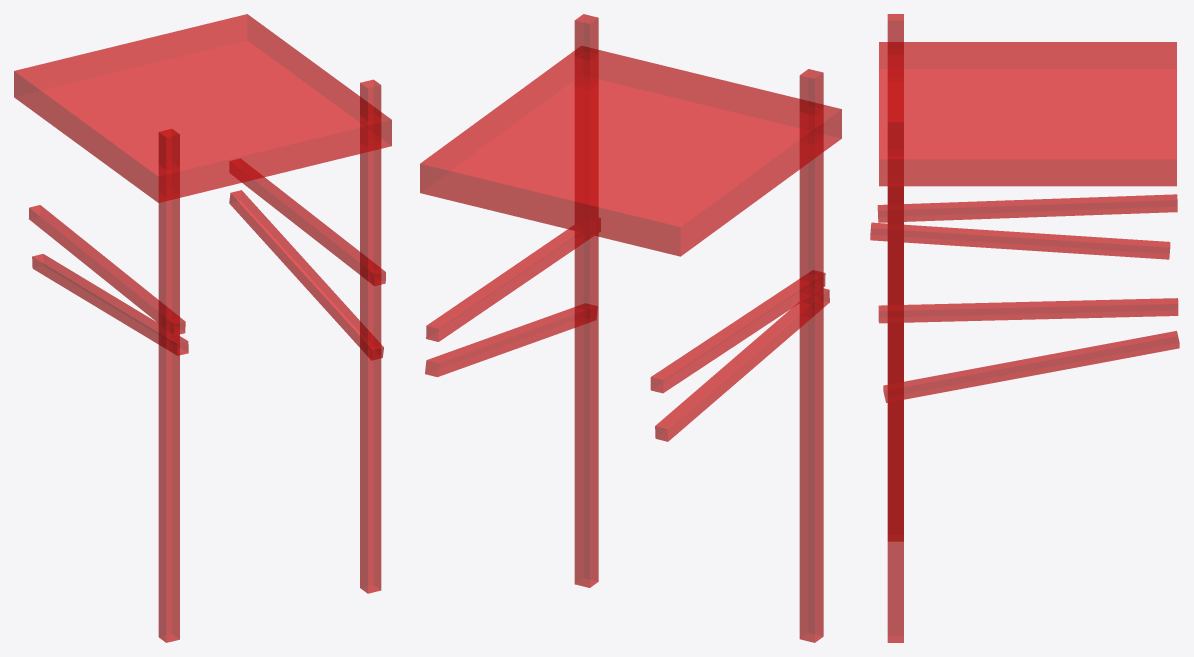
File: SM_Bld_Dock_02_Collision.fbx
3 renders of one model, left to right at view 1: azimuth 30°, elevation 25°; view 2: azimuth 150°, elevation 25°; view 3: azimuth 270°, elevation 25°, orthographic. The views are drawn at different scales.
Visible parts, largest first — view 1: SM_Bld_Dock_02_Collision; view 2: SM_Bld_Dock_02_Collision; view 3: SM_Bld_Dock_02_Collision.
Part boxes in pixels (left/top/right/bottom): SM_Bld_Dock_02_Collision: left=14, top=14, right=391, bottom=642; SM_Bld_Dock_02_Collision: left=420, top=14, right=841, bottom=642; SM_Bld_Dock_02_Collision: left=870, top=14, right=1179, bottom=642.
Bounding box in the file's own units: 367 × 758 × 408.
